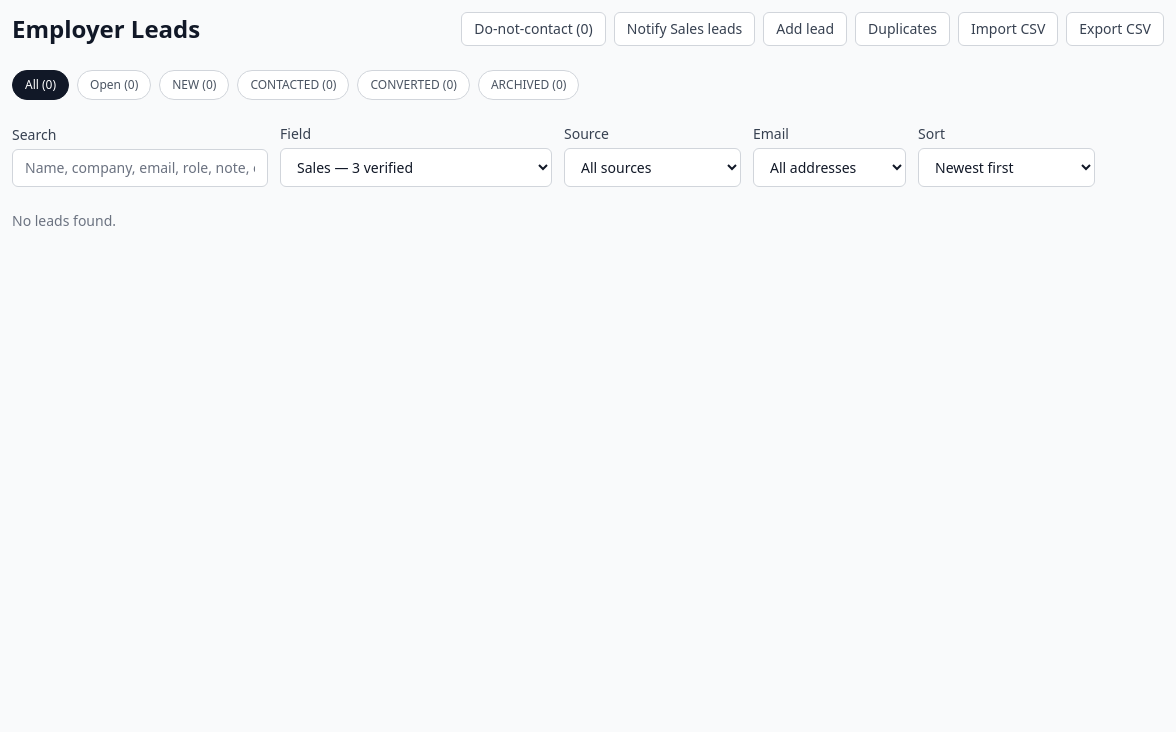
Test case: AdminLeads — notify confirmed leads › says so, without a dialog, when nobody is waiting to be told
Click the button "Notify Sales leads" at (685,29), box [614,12,755,46]
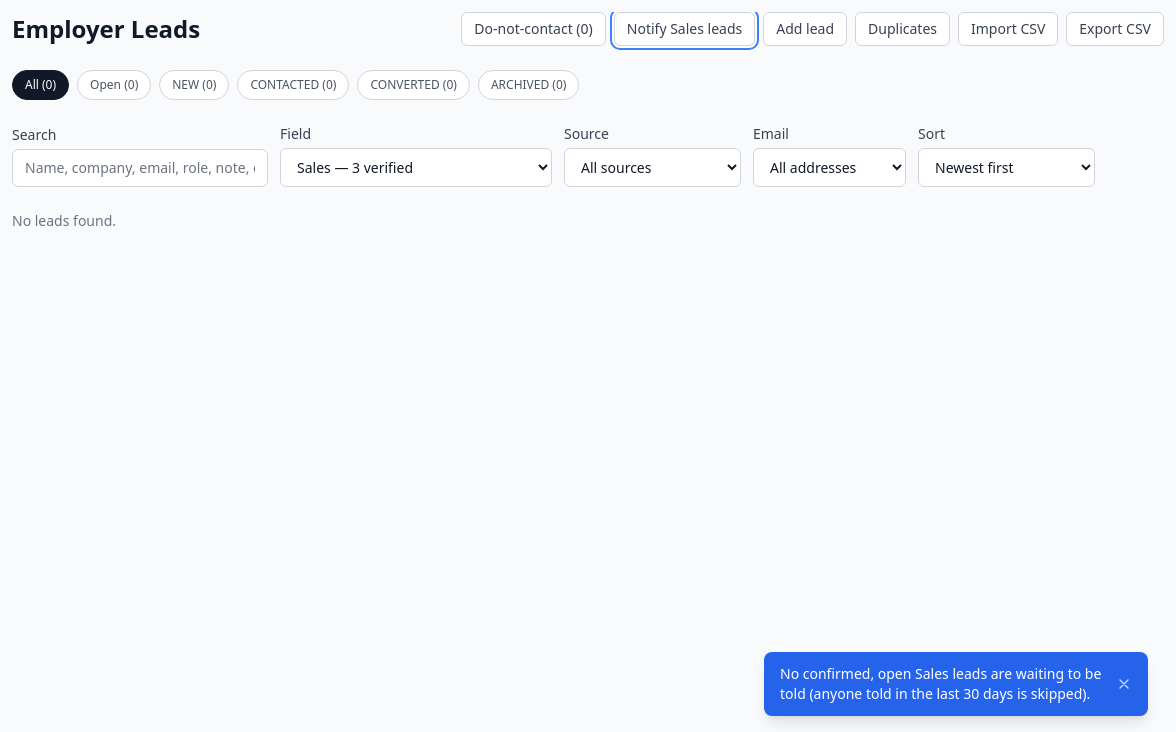
Result: the text "No confirmed, open Sales leads are waiting" is shown at [780,664,1101,703]
